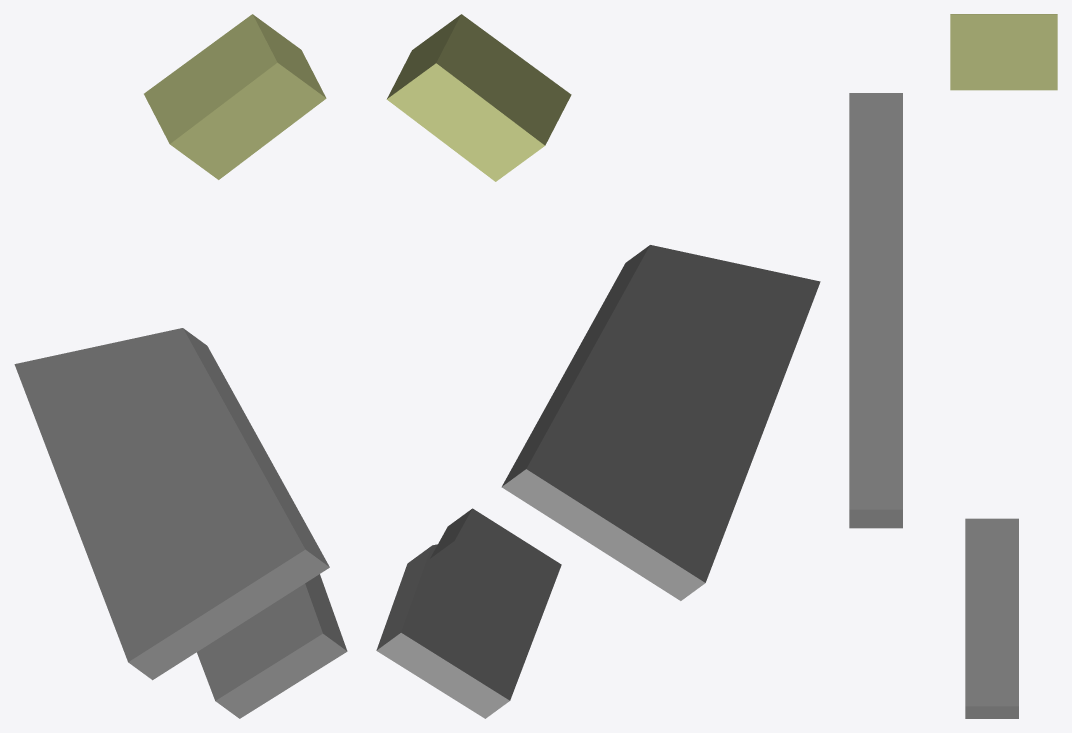
3 views of the same model, side by side, from view 1: azimuth 30°, elevation 25°; view 2: azimuth 150°, elevation 25°; view 3: azimuth 270°, elevation 25° (orthographic). The views are drawn at different scales.
Visible parts, largest first — view 1: 0_1_1_3_3_0_0_3_0; view 2: 0_1_1_3_3_0_0_3_0; view 3: 0_1_1_3_3_0_0_3_0.
Boxes of the visible parts, x1,y1,x2,y2 form: 0_1_1_3_3_0_0_3_0: (14,14,347,718); 0_1_1_3_3_0_0_3_0: (376,14,820,718); 0_1_1_3_3_0_0_3_0: (849,14,1057,718).
Bounding box in the file's own units: 25.56 × 44.61 × 11.66.
